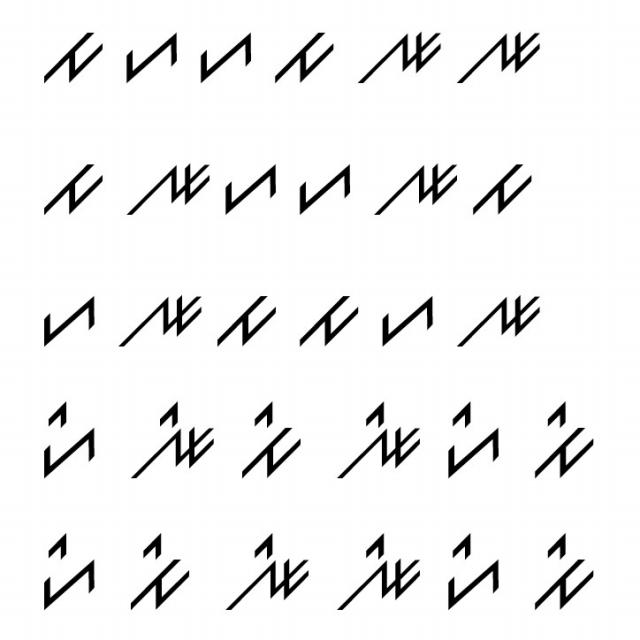ha: (28, 282, 101, 354), (370, 287, 440, 354), (218, 152, 281, 222), (289, 158, 359, 221), (194, 31, 258, 94), (120, 30, 184, 90)
hi: (30, 393, 101, 483), (441, 395, 512, 481), (28, 528, 101, 610), (439, 530, 509, 615)
mba: (33, 154, 112, 220), (289, 286, 363, 354), (468, 155, 536, 226), (270, 26, 337, 92), (35, 21, 106, 83), (213, 289, 279, 353)
mbi: (520, 398, 604, 490), (120, 529, 197, 619), (528, 530, 606, 616), (235, 397, 305, 479)
nda: (372, 150, 462, 228), (452, 280, 544, 354), (353, 22, 446, 94), (452, 24, 544, 91), (120, 156, 213, 222), (116, 286, 208, 351)
ndi: (118, 389, 220, 491), (329, 389, 427, 490), (333, 522, 426, 622), (222, 528, 316, 621)
